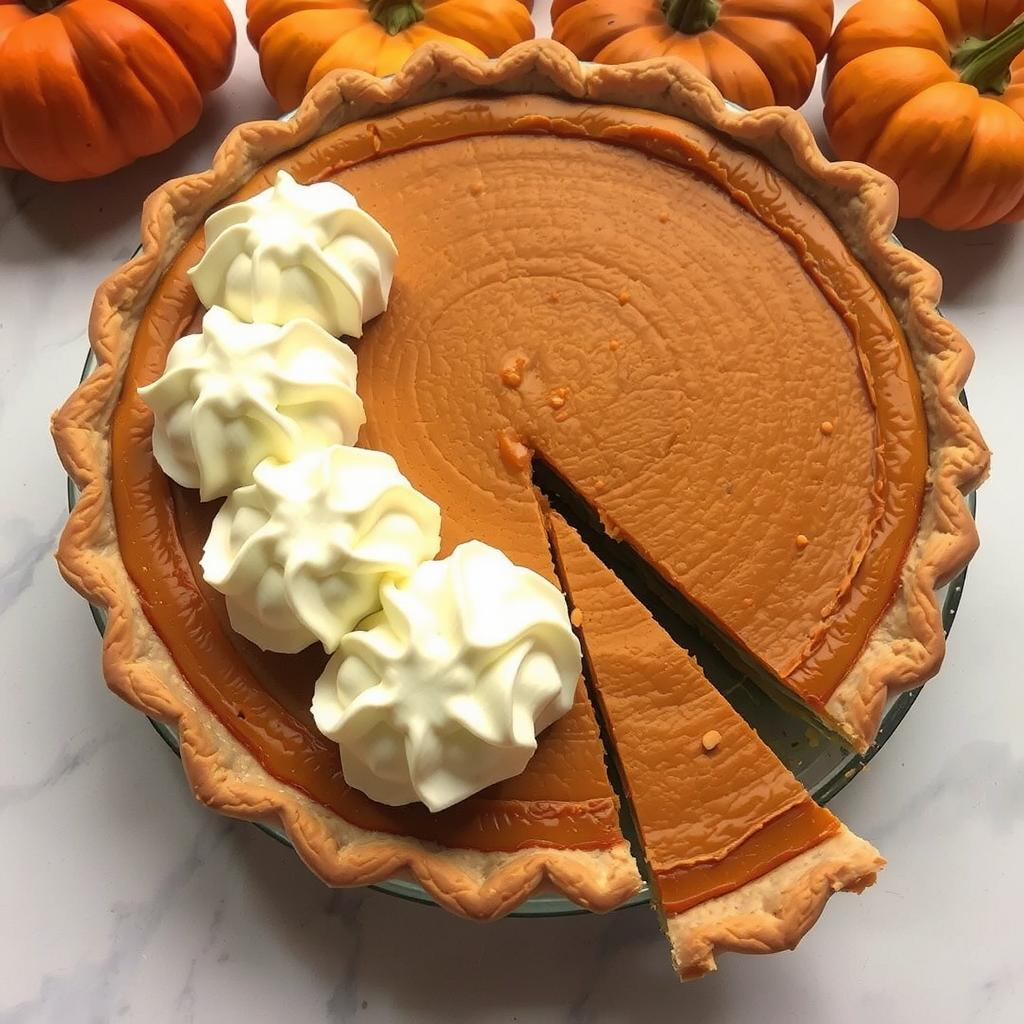pie: (41, 39, 993, 967)
